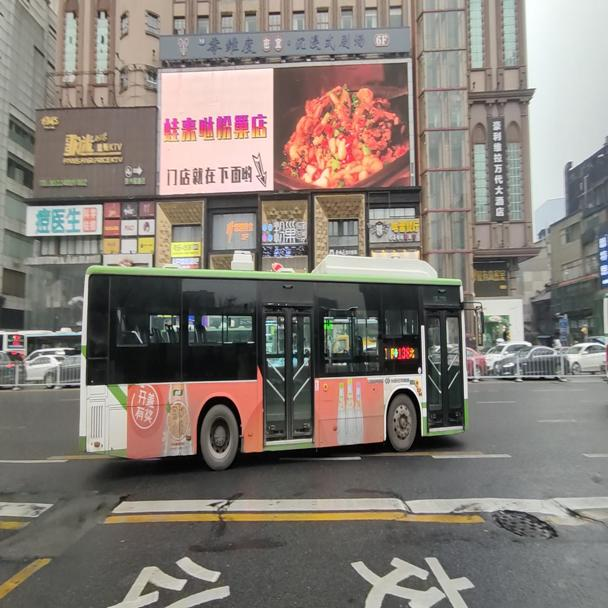bus: (75, 251, 485, 472)
screen: (398, 346, 409, 360)
